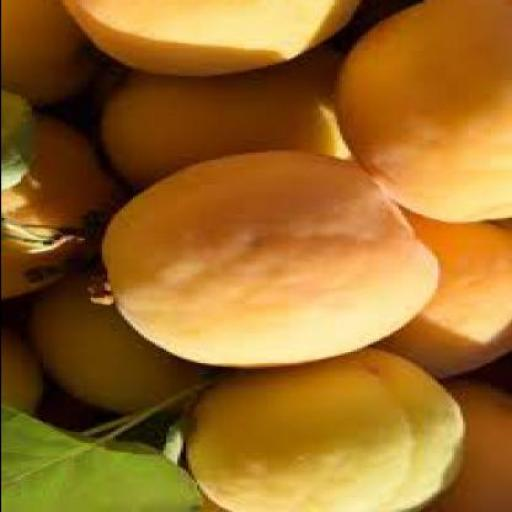biodegradable: (100, 154, 442, 372), (187, 350, 471, 510), (336, 1, 511, 228), (98, 55, 355, 196), (31, 277, 218, 417), (372, 203, 510, 384), (62, 2, 364, 78), (2, 116, 120, 305), (2, 411, 206, 511), (426, 379, 511, 512), (2, 2, 101, 110), (3, 326, 47, 417)
